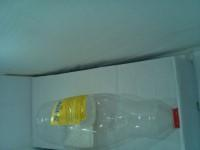bottle: (33, 90, 182, 150)
